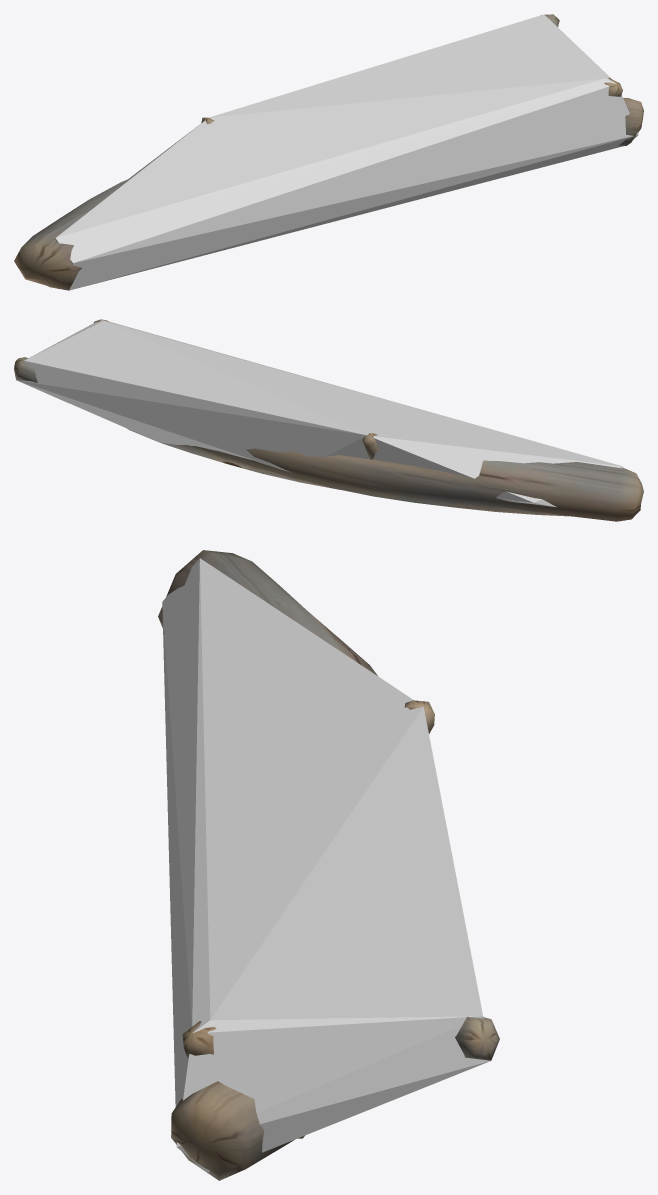
The model's file is IO_Driftwood_B.glb.
3 views of the same model, one above another, from view 1: azimuth 30°, elevation 25°; view 2: azimuth 150°, elevation 25°; view 3: azimuth 270°, elevation 25° (orthographic). The views are drawn at different scales.
Visible parts, largest first — view 1: IO_Driftwood_B_COL, IO_Driftwood_B_LOD0; view 2: IO_Driftwood_B_COL, IO_Driftwood_B_LOD0; view 3: IO_Driftwood_B_COL, IO_Driftwood_B_LOD0.
Boxes of the visible parts, x1=… form: IO_Driftwood_B_COL: x1=55, y1=14, x2=638, y2=290; IO_Driftwood_B_LOD0: x1=14, y1=14, x2=643, y2=290; IO_Driftwood_B_COL: x1=17, y1=319, x2=623, y2=507; IO_Driftwood_B_LOD0: x1=14, y1=319, x2=643, y2=521; IO_Driftwood_B_COL: x1=162, y1=558, x2=490, y2=1173; IO_Driftwood_B_LOD0: x1=158, y1=550, x2=499, y2=1180.
Size of what is drawn, in the model's own units: 1.24 by 0.1604 by 0.3184.
1 material, 1 textured.
